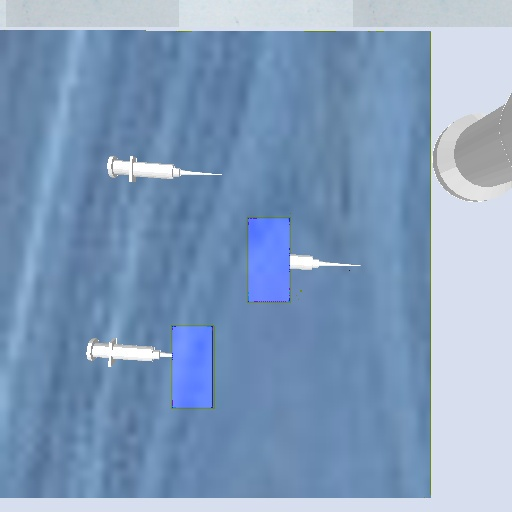jeringuilla: (99, 151, 230, 190), (81, 334, 172, 372), (290, 250, 366, 278)
